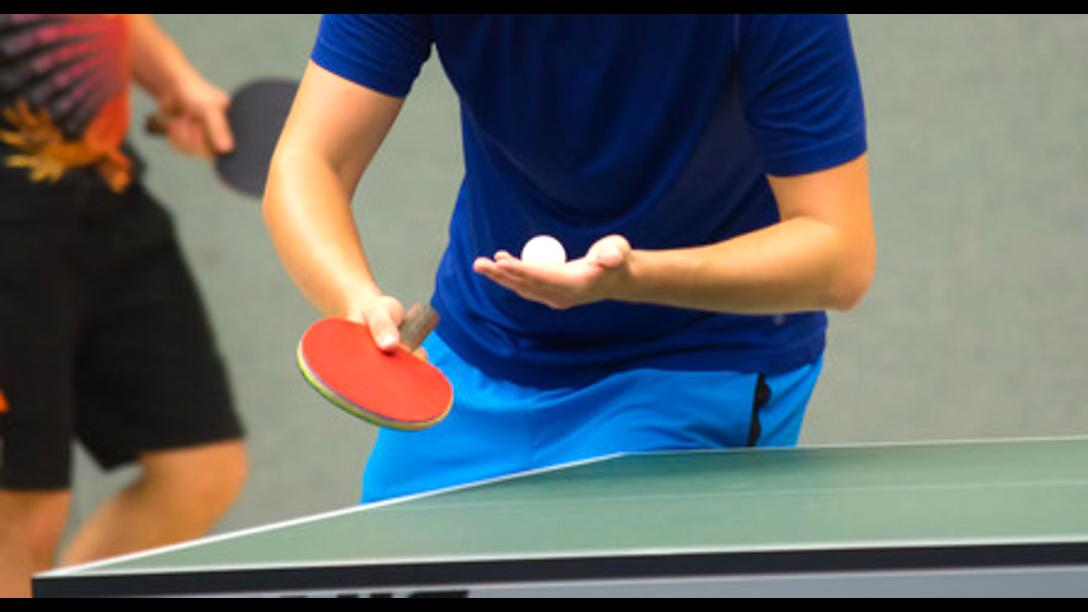Table-Tennis-Ball: (523, 236, 565, 270)
